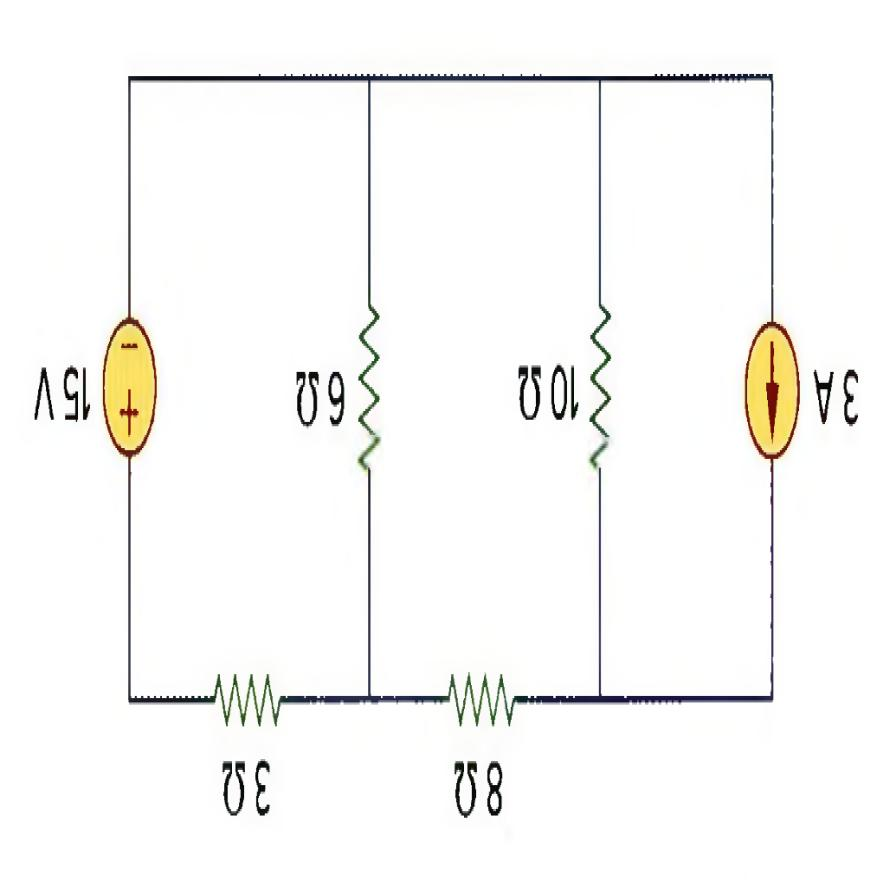I3: (745, 324, 800, 461)
R1: (207, 644, 290, 740)
R2: (580, 285, 622, 487), (348, 284, 390, 482)
V3: (103, 317, 156, 459)
